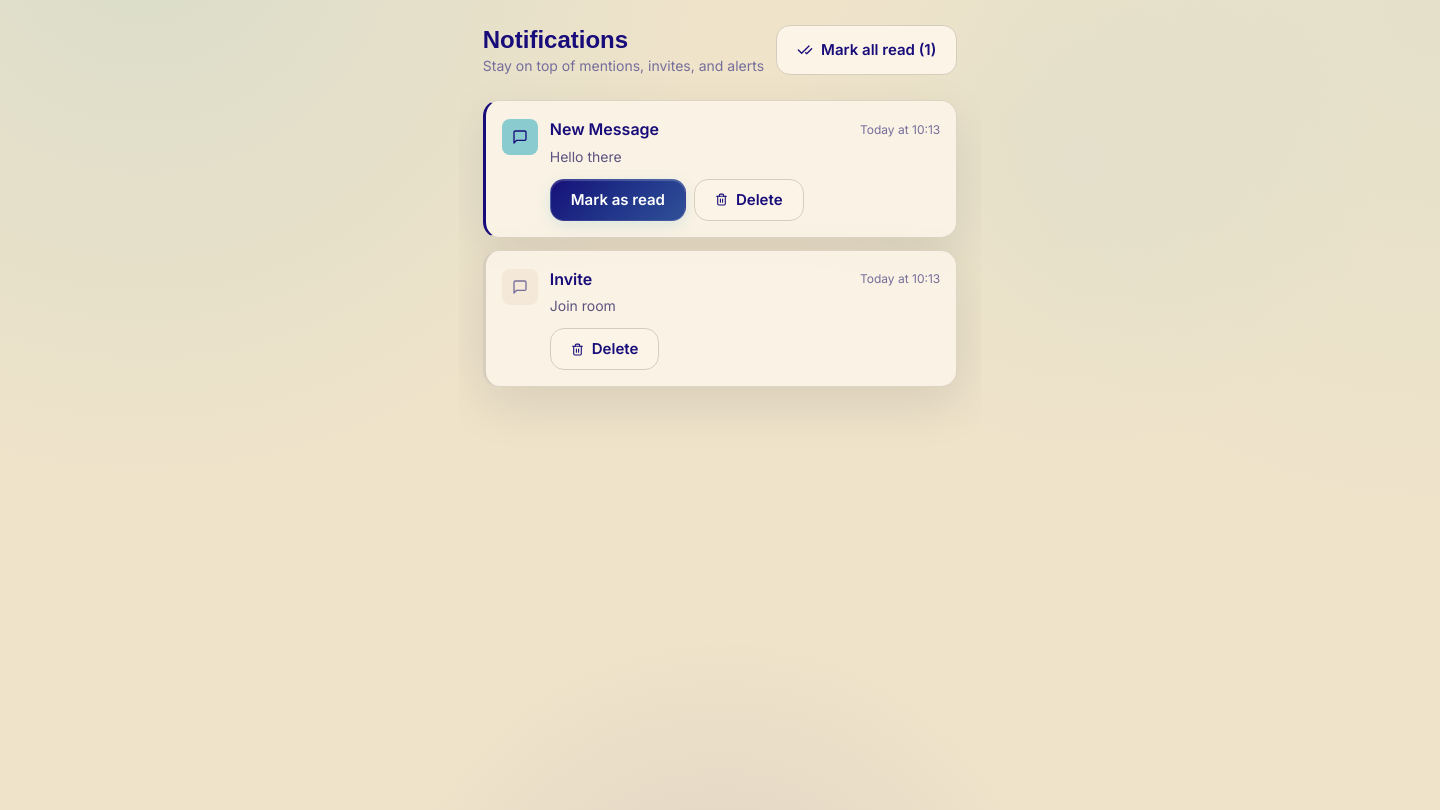
Scenario: NotificationsPage › marks a notification as read
Step 1. Click the button "Mark as read" → (618, 200), box [550,179,686,221]
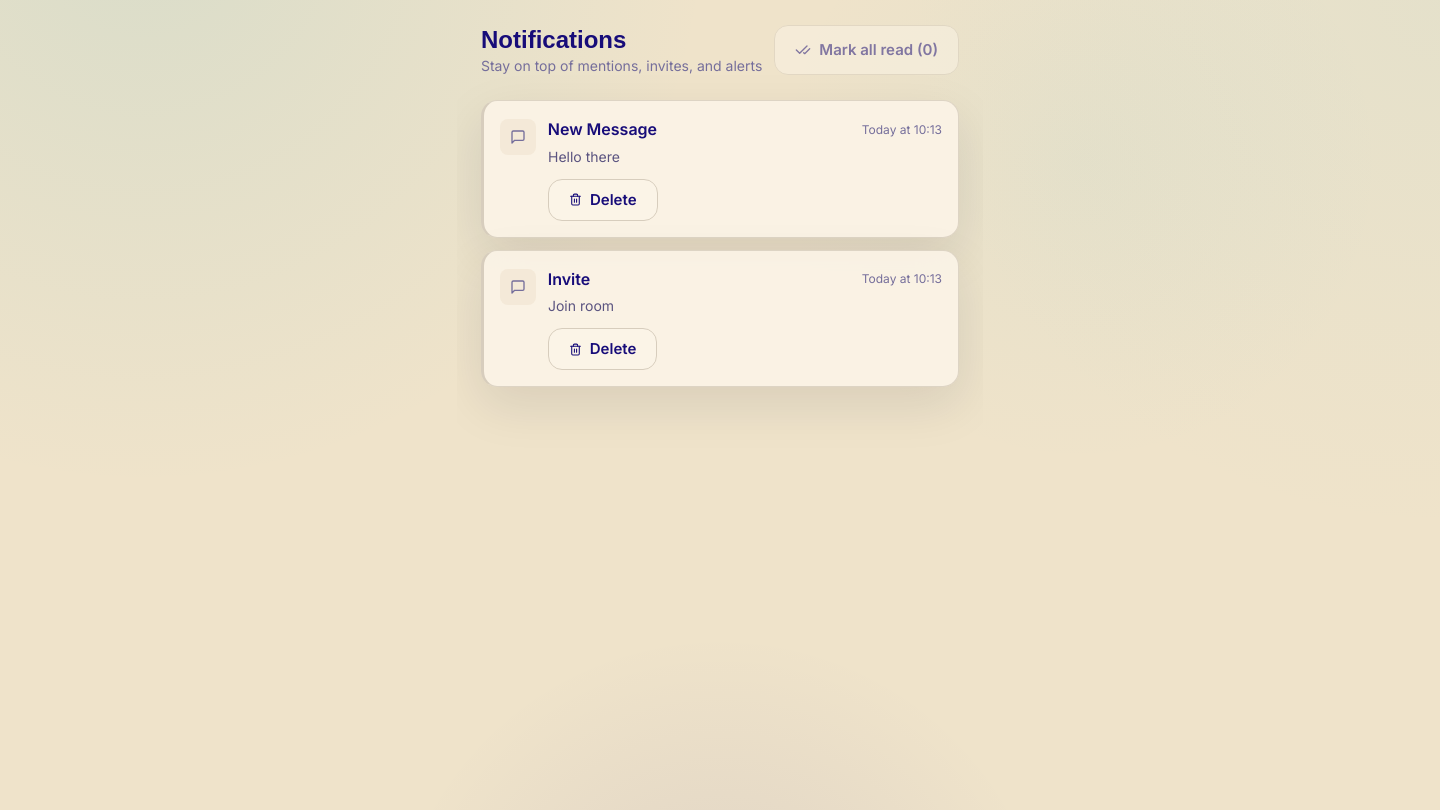
Expected: the button "Mark as read" is gone
